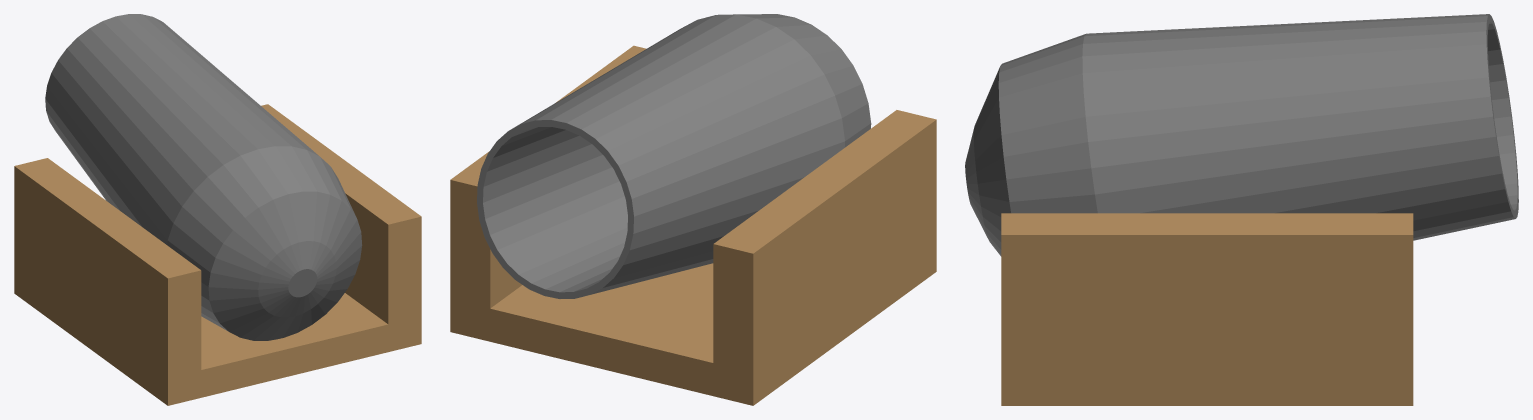
Rendered from low poly canon.fbx.
3 views of the same model, side by side, from view 1: azimuth 30°, elevation 25°; view 2: azimuth 150°, elevation 25°; view 3: azimuth 270°, elevation 25° (orthographic). The views are drawn at different scales.
Parts seen in each view (by area): view 1: canon, structure; view 2: canon, structure; view 3: canon, structure.
Boxes of the visible parts, x1=… form: canon: x1=45, y1=14, x2=362, y2=340; structure: x1=14, y1=104, x2=421, y2=405; canon: x1=477, y1=14, x2=871, y2=298; structure: x1=450, y1=45, x2=936, y2=405; canon: x1=965, y1=14, x2=1518, y2=256; structure: x1=1001, y1=213, x2=1413, y2=405.
Size of the model in its own units: 380 by 323 by 536.
